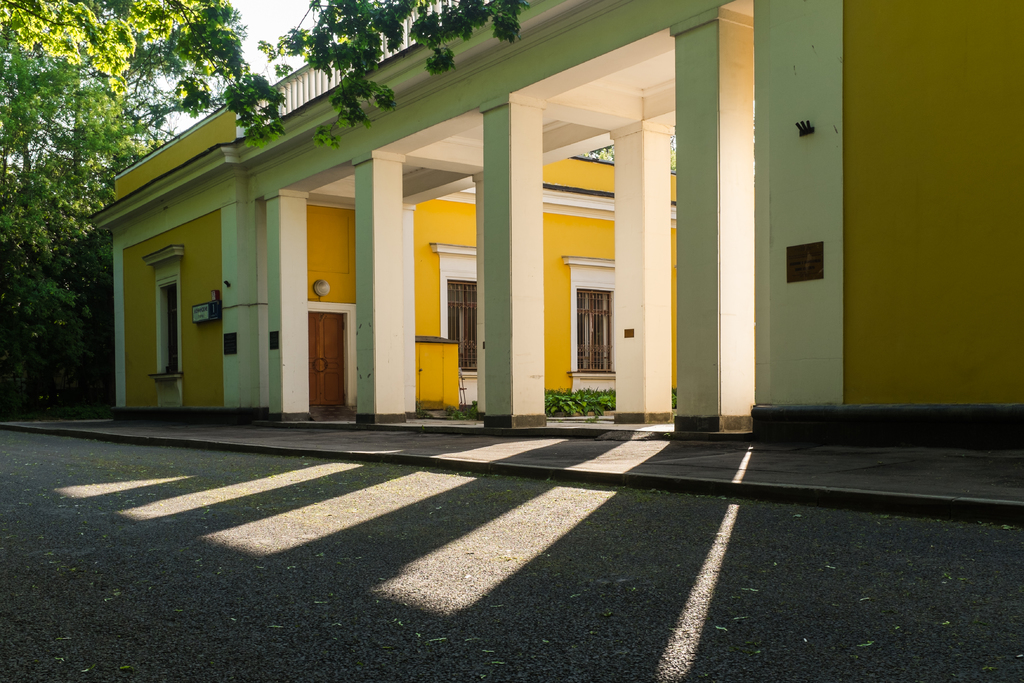door: (311, 317, 347, 403)
